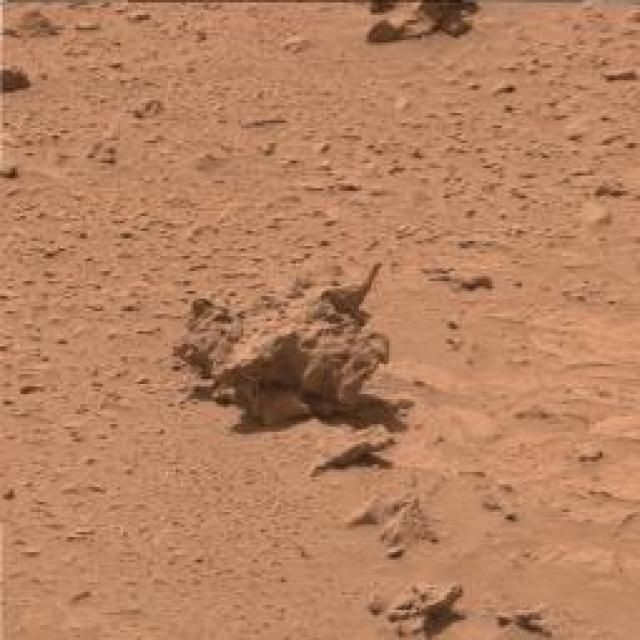rock: (176, 265, 402, 423), (364, 576, 458, 638), (356, 0, 484, 45), (352, 492, 436, 552), (311, 420, 397, 474), (492, 602, 554, 632), (0, 55, 27, 95)
